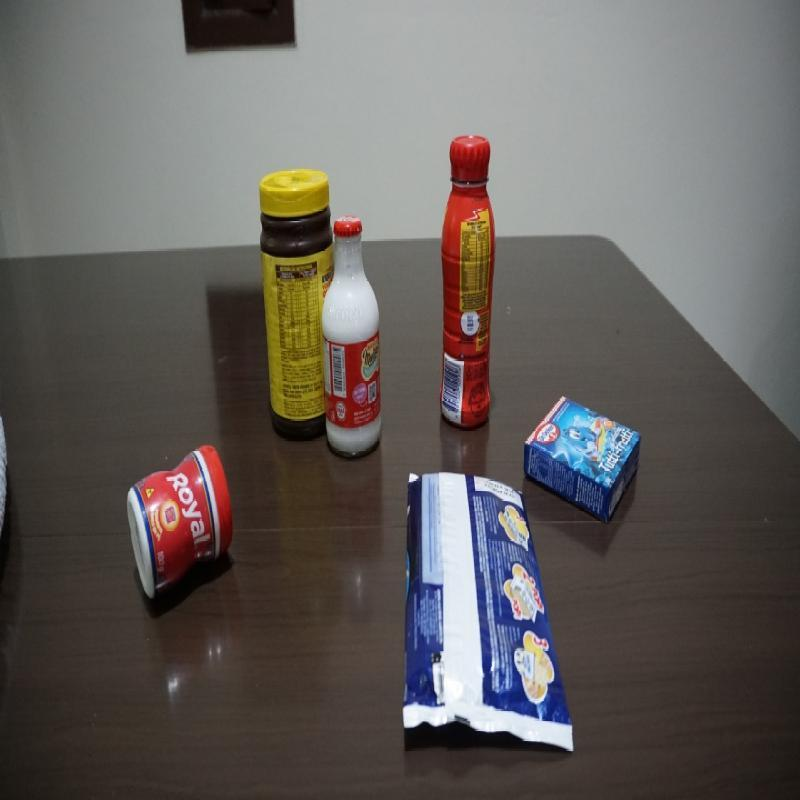Chocolate Milk: (439, 134, 496, 432)
Chocolate Powder: (257, 168, 336, 444)
Coconut Milk: (320, 214, 386, 466)
Gelatine: (522, 395, 644, 525)
Popcorn: (396, 468, 581, 762)
Yeast: (125, 442, 236, 600)
